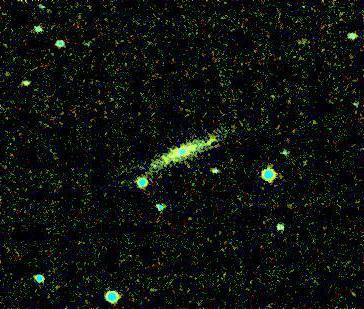star: (194, 129, 224, 159)
